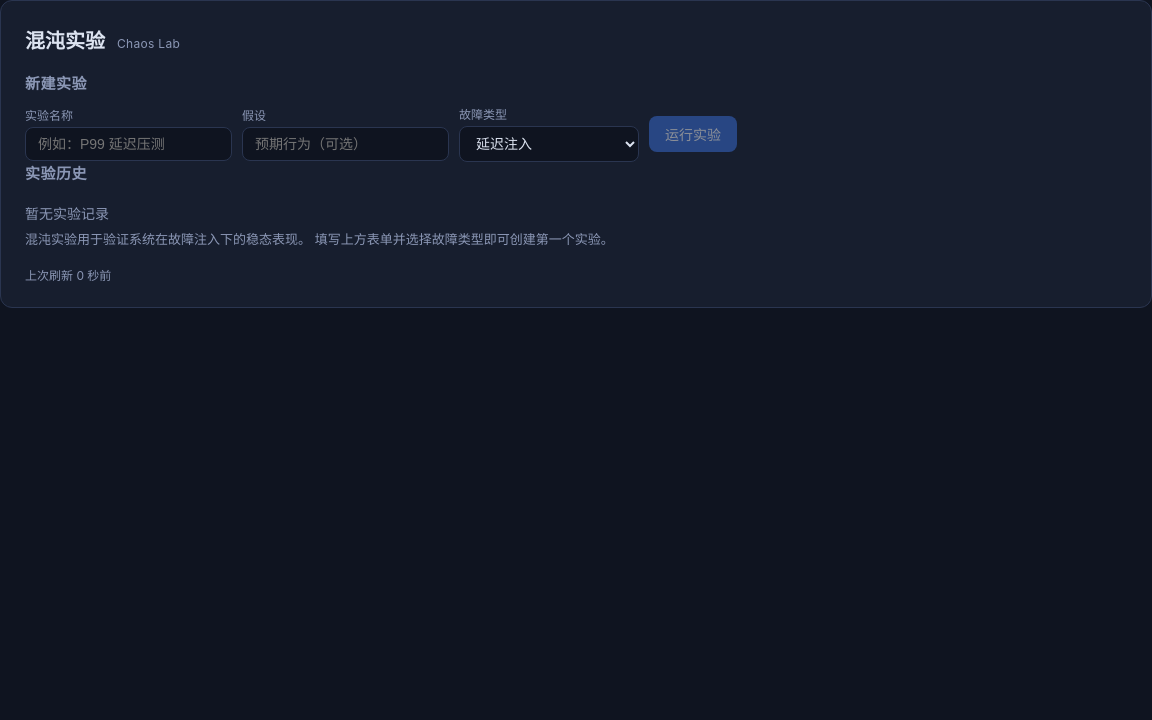
Test: Chaos Lab 加固 › 取消确认不提交
Step 1. Type "取消实验" into the field labelled "实验名称" → (128, 144), box [25,127,232,161]
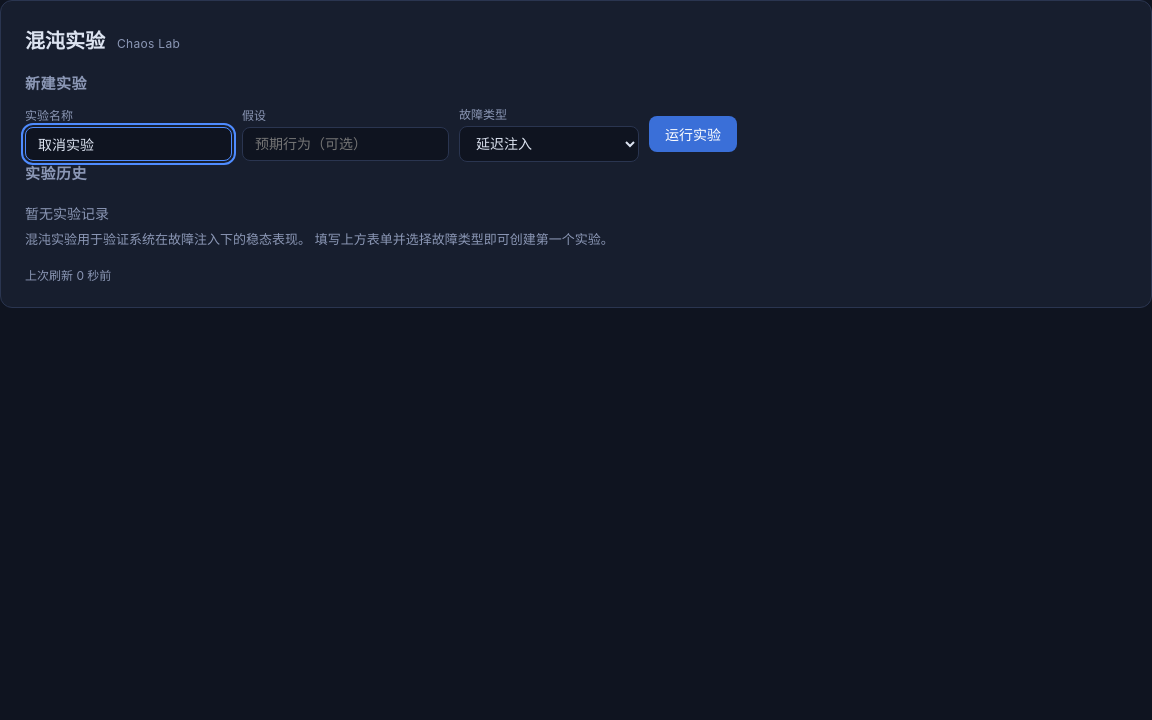
Step 2. Click the button "运行实验" → (693, 134), box [649,116,737,152]
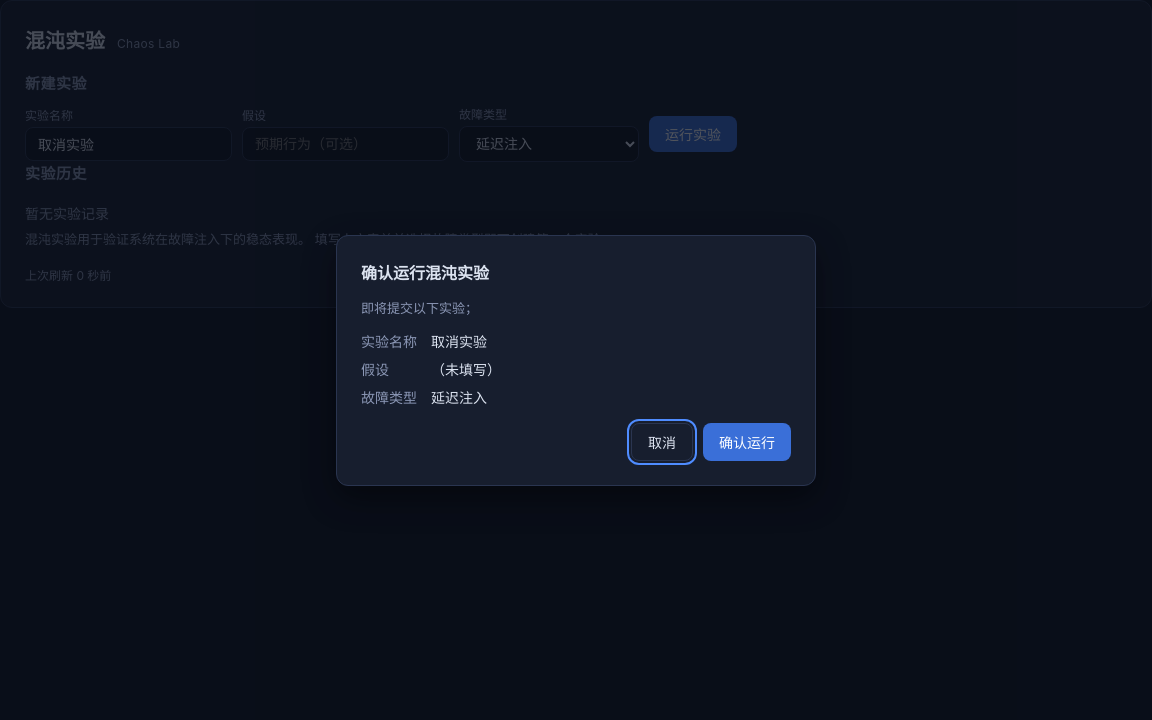
Step 3. Click the button "取消" → (662, 442), box [631,422,693,460]
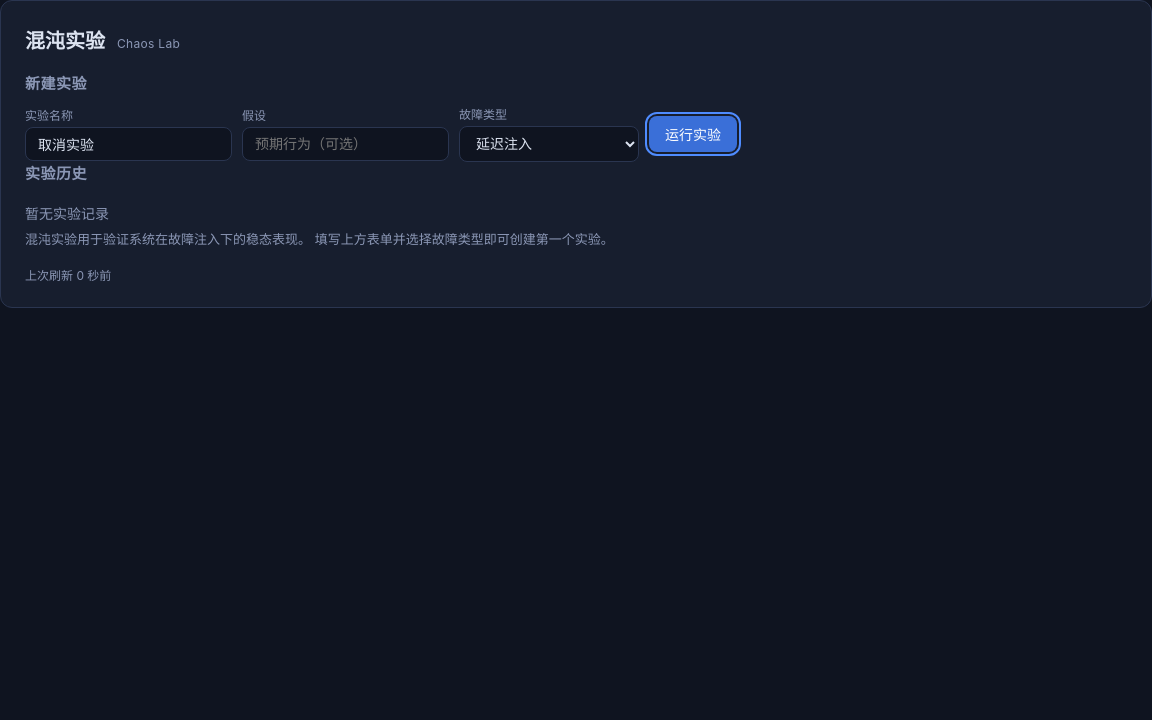
Now the dialog is gone
